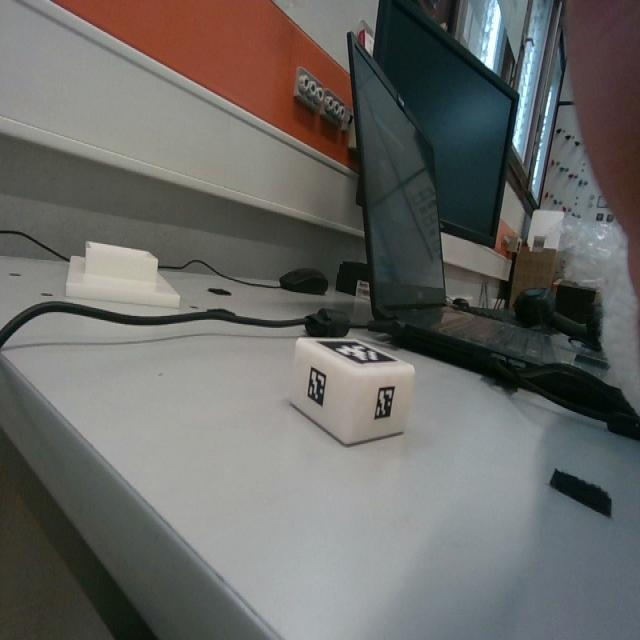Cube: (290, 339, 414, 445)
